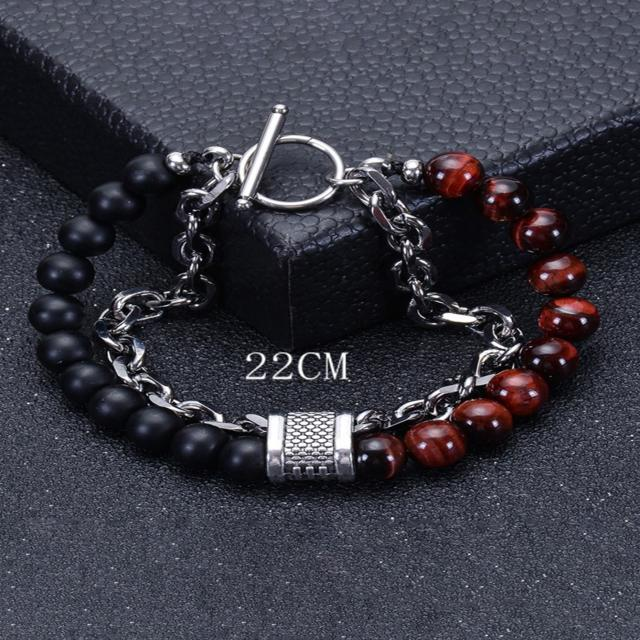bracelet: (5, 73, 640, 534)
